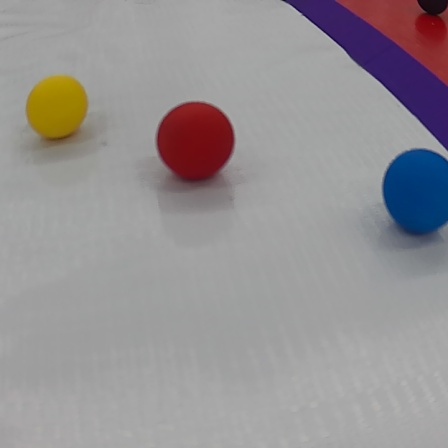blue: (378, 148, 448, 238)
red: (157, 100, 241, 186)
red_aim: (274, 2, 448, 159)
yellow: (23, 73, 95, 146)
